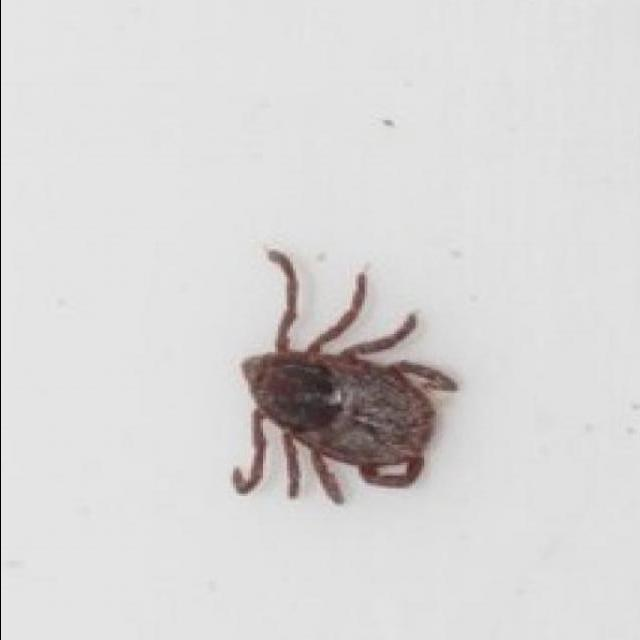Rhipicephalus Sanguineus-F: (229, 249, 459, 504)
